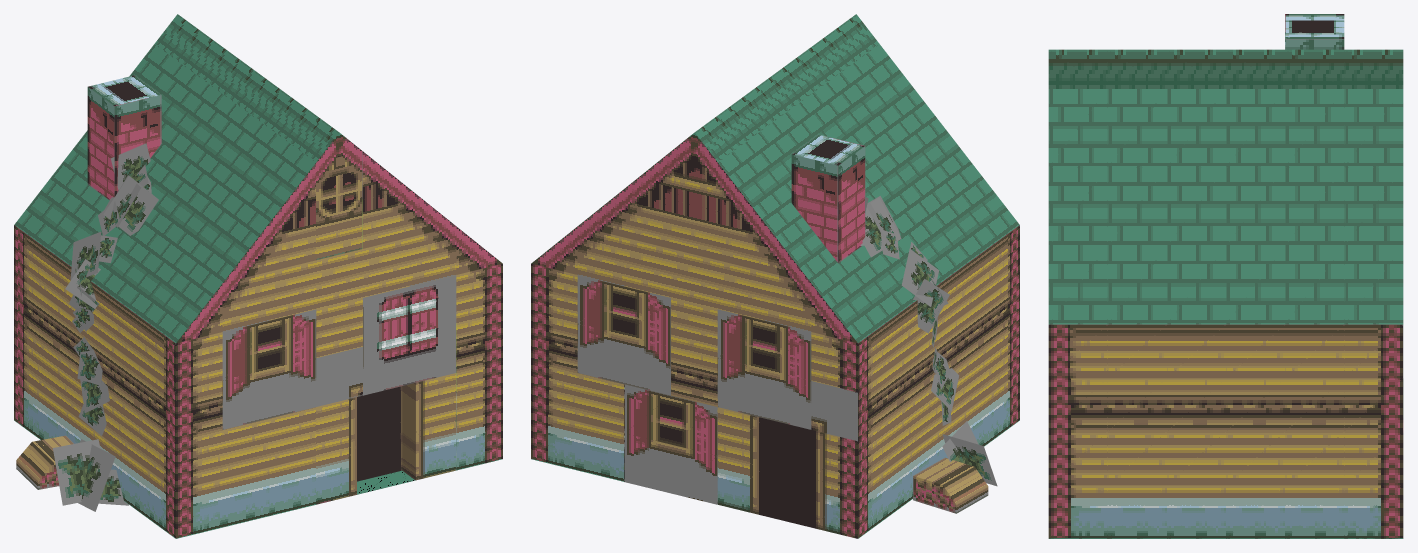
Rendered from house5.glb.
The picture shows the model from 3 angles, left to right: view 1: azimuth 30°, elevation 25°; view 2: azimuth 150°, elevation 25°; view 3: azimuth 270°, elevation 25°; orthographic projection. The views are drawn at different scales.
Visible parts, largest first — view 1: Scenario.001; view 2: Scenario.001; view 3: Scenario.001.
Boxes of the visible parts, bbox=[...] form: Scenario.001: bbox=[14, 14, 502, 538]; Scenario.001: bbox=[531, 14, 1019, 538]; Scenario.001: bbox=[1048, 14, 1403, 538].
Size of the model in its own units: 8.14 by 7.68 by 6.01.
Materials: 1 (1 with a texture image).
